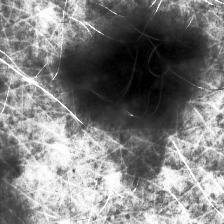Benign Marking or Mole: (63, 16, 204, 126)
